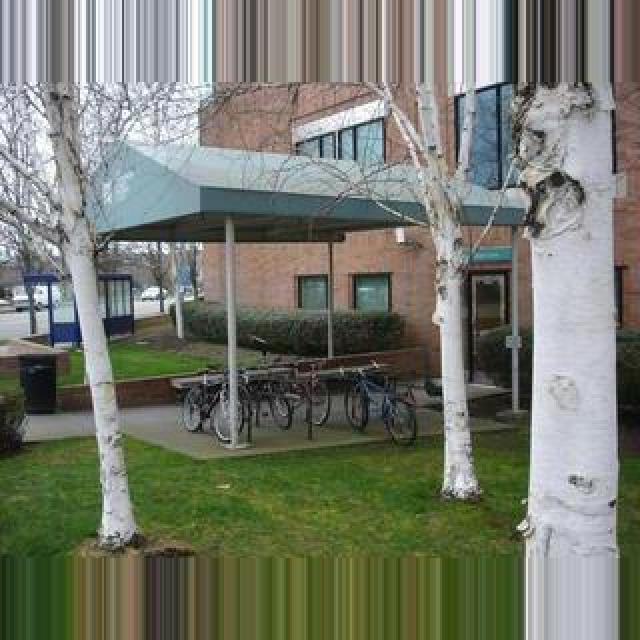Person: (342, 360, 418, 444), (182, 368, 252, 438), (266, 358, 332, 428)
